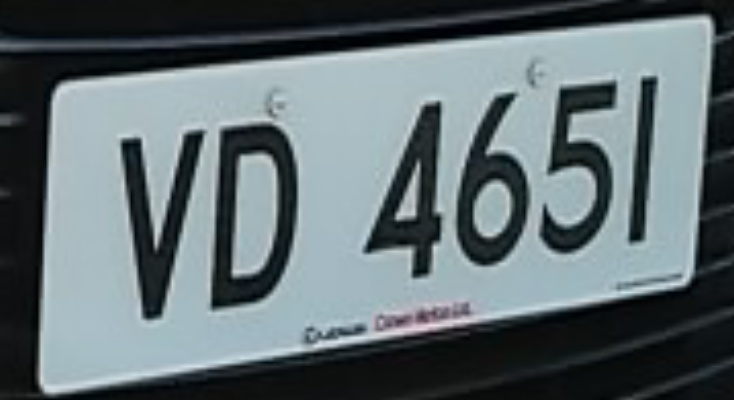1: (612, 50, 670, 266)
4: (359, 75, 459, 308)
5: (536, 56, 628, 277)
6: (450, 70, 539, 285)
D: (203, 106, 316, 329)
V: (103, 114, 210, 338)
